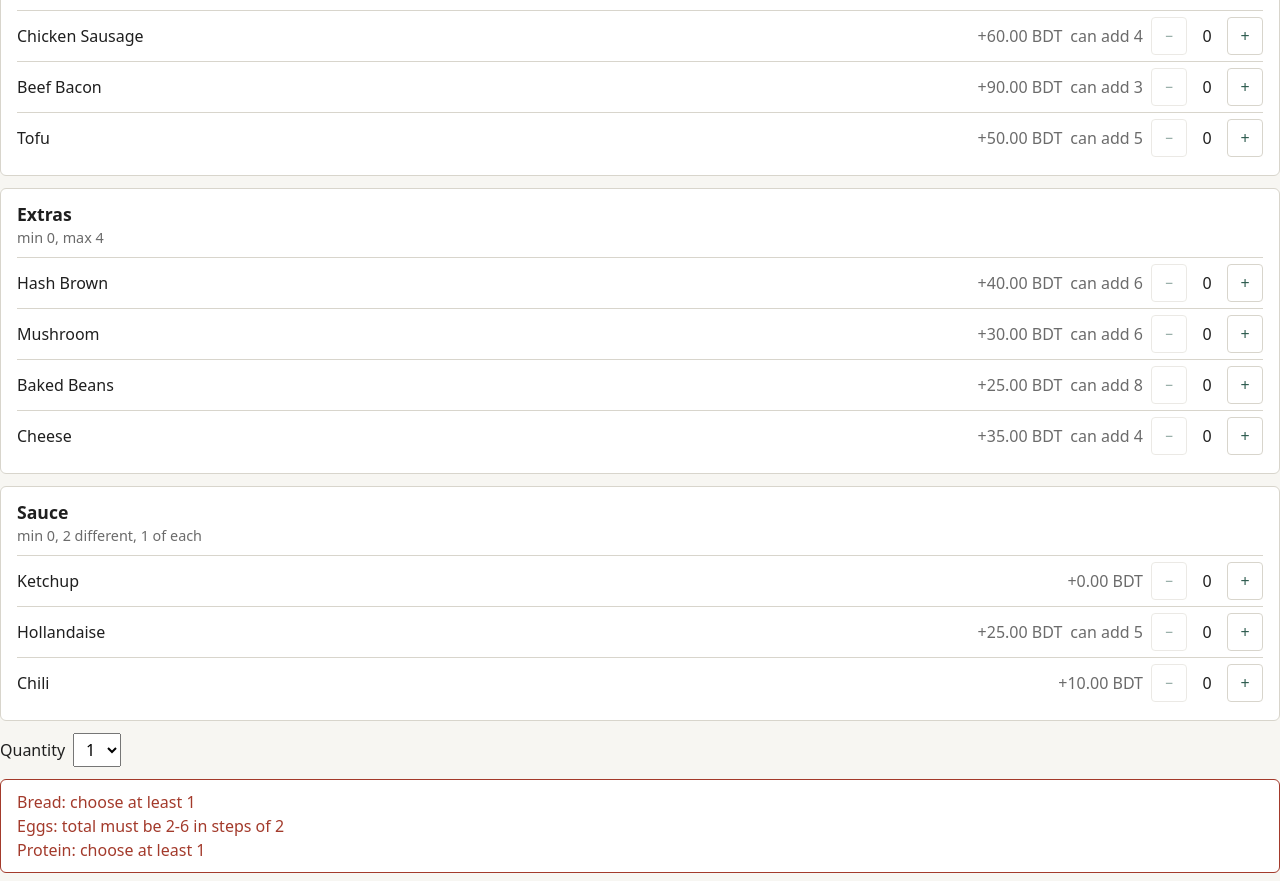
raising the quantity shows what is short
The width and height of the screenshot is (1280, 881).
(page scrolled)
Click the button named "Add Cheese".
click(1245, 436)  # box [1227,417,1263,455]
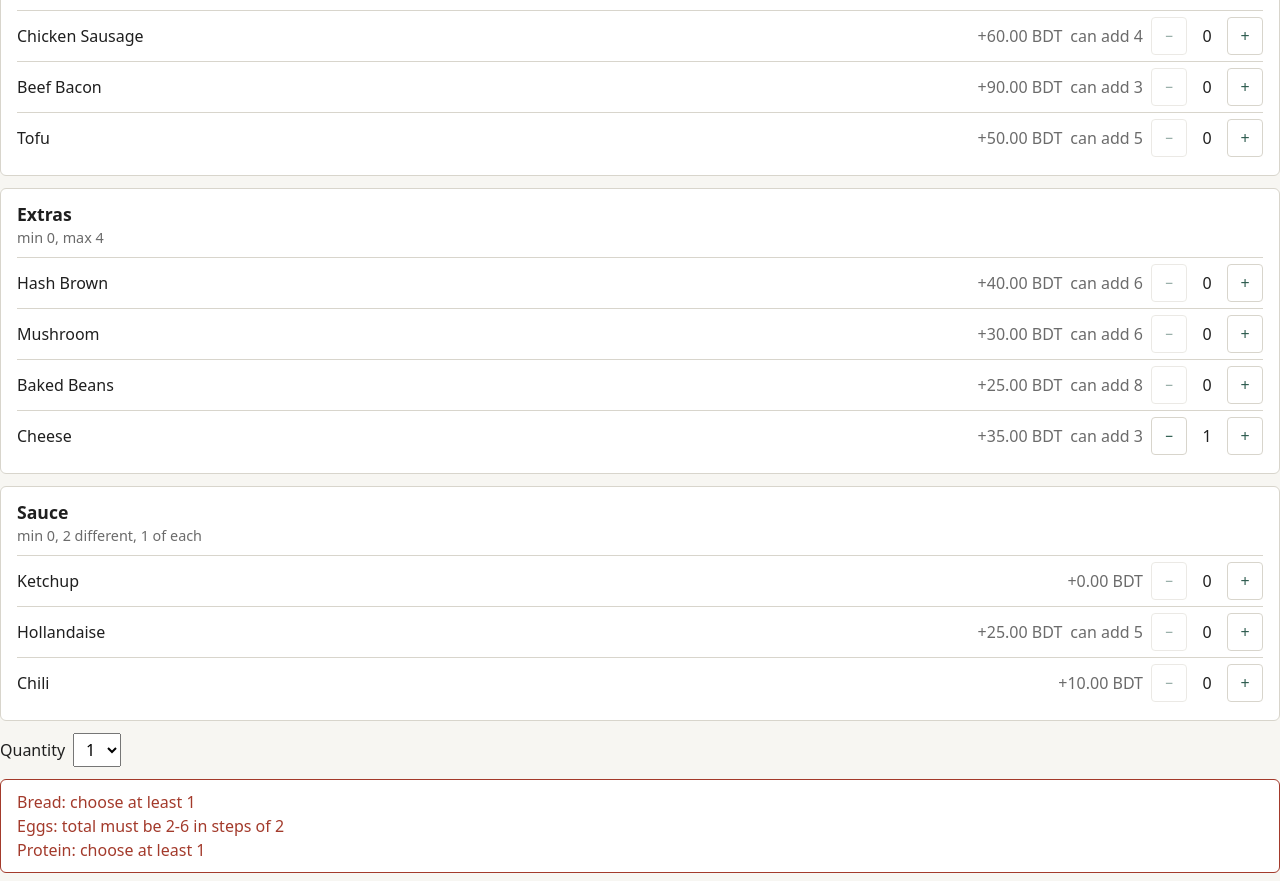
Click the button named "Add Cheese".
click(1245, 436)  # box [1227,417,1263,455]
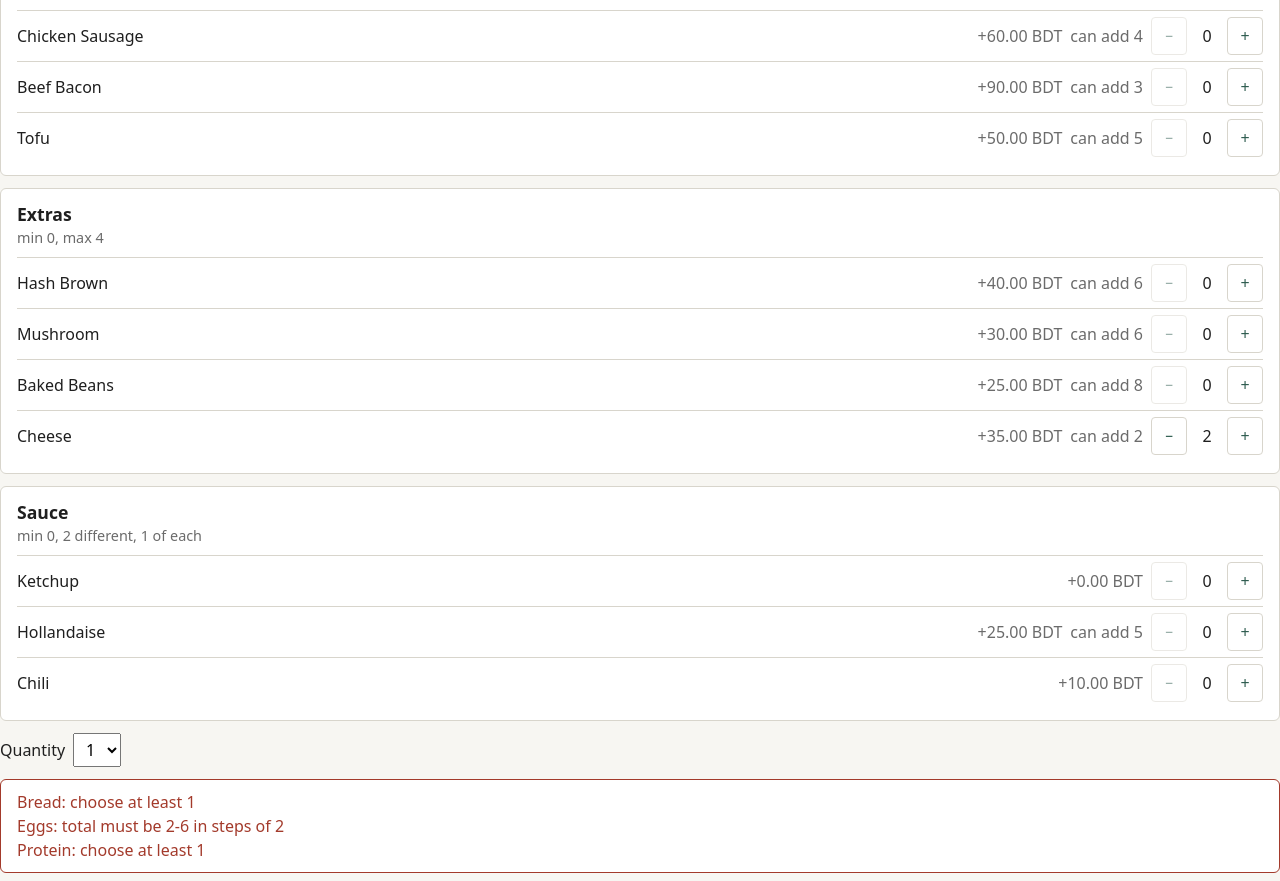
Select "3" in the dropdown labelled "Quantity" at (97, 750), box [73,733,121,767]
(page scrolled)
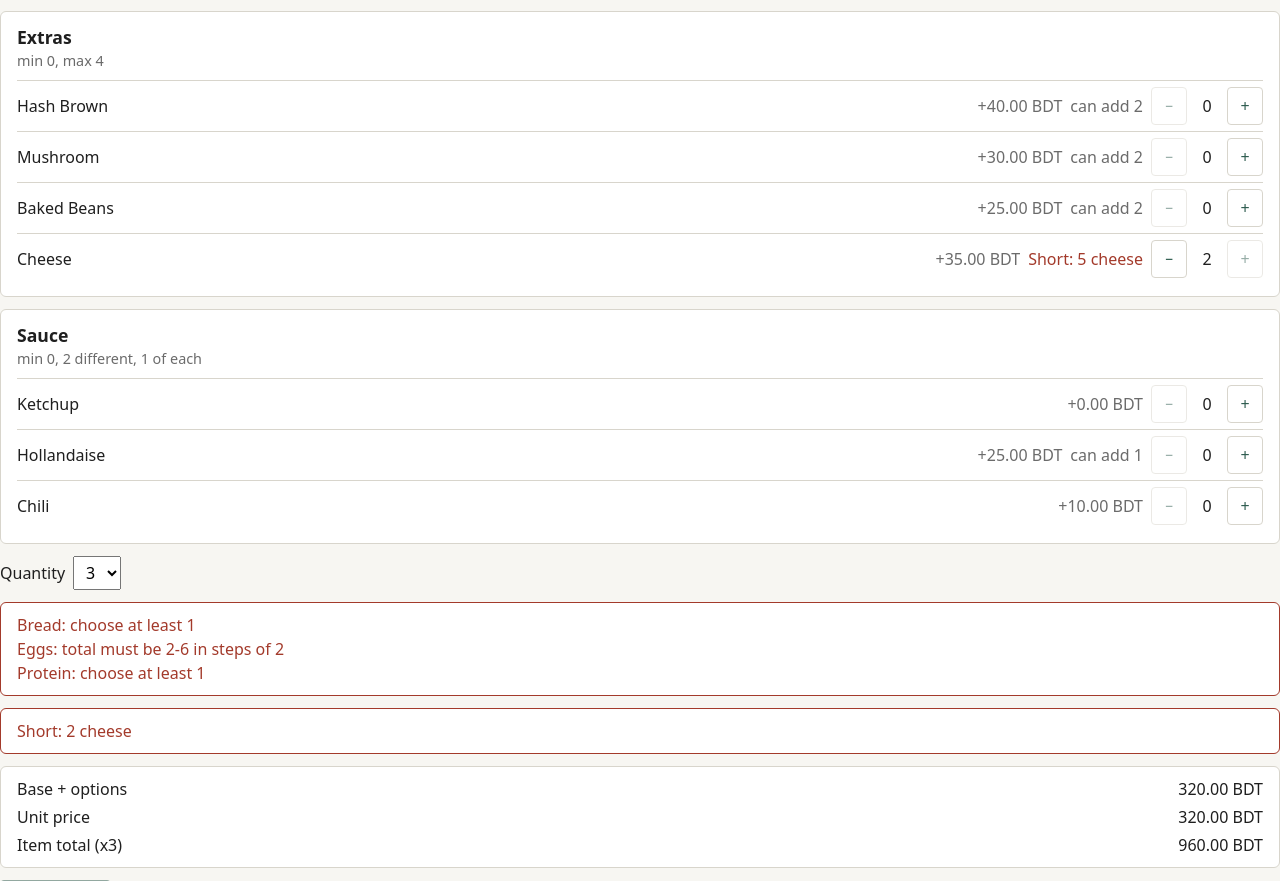
Expected: the message reads "Short: 2 cheese", [17,720,132,742]
